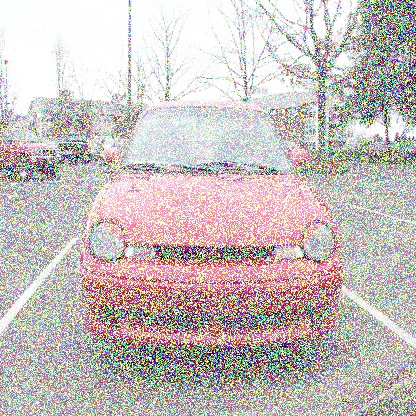Vehicle: (77, 99, 346, 353)
